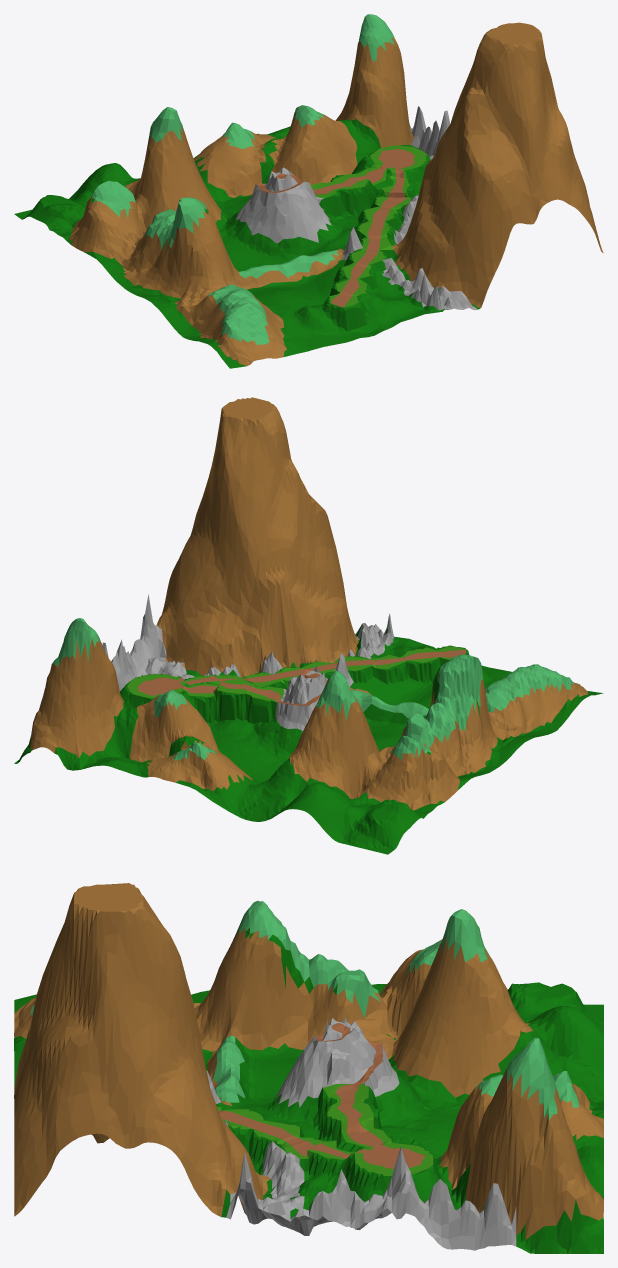
The model's file is Terreno 1.fbx.
3 views of the same model, one above another, from view 1: azimuth 30°, elevation 25°; view 2: azimuth 150°, elevation 25°; view 3: azimuth 270°, elevation 25° (orthographic). The views are drawn at different scales.
Parts seen in each view (by area): view 1: Terrain, Terrain.001; view 2: Terrain, Terrain.001; view 3: Terrain, Terrain.001.
Boxes of the visible parts, x1,y1,x2,y2 form: Terrain: (14,14,603,368); Terrain.001: (256,149,415,307); Terrain: (14,397,603,854); Terrain.001: (138,649,466,705); Terrain: (14,883,603,1253); Terrain.001: (218,1023,424,1168).
Bounding box in the file's own units: 100044 × 60017 × 100058.
